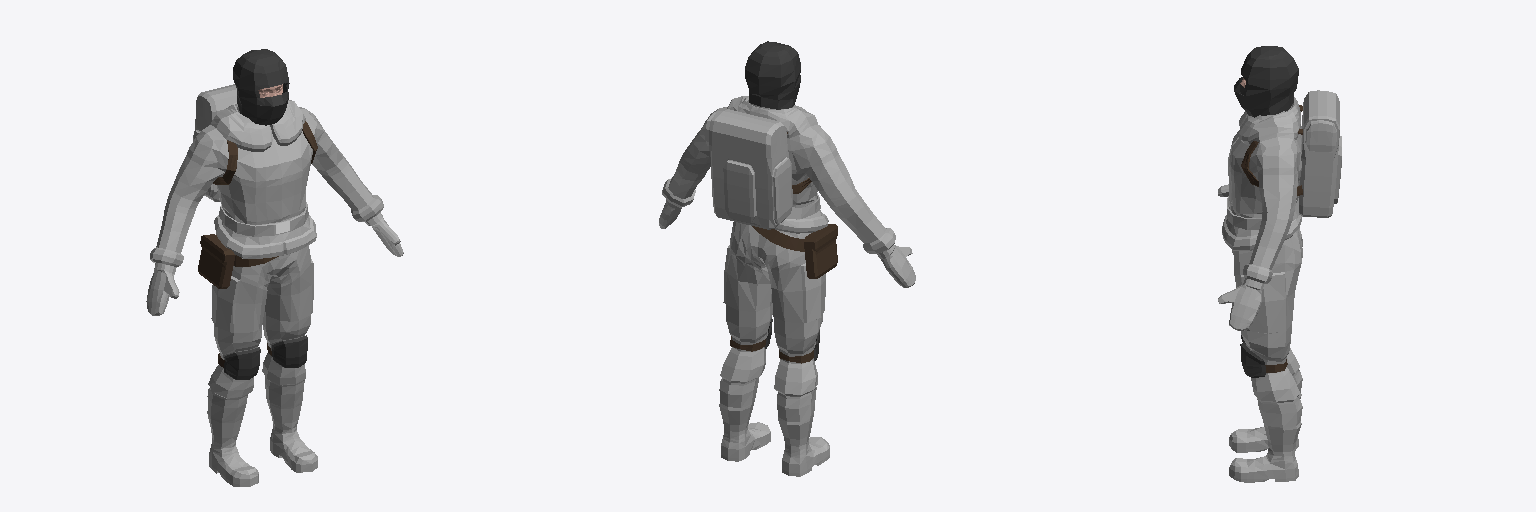
Rendered from Male_Raider.obj.
3 views of the same model, side by side, from view 1: azimuth 30°, elevation 25°; view 2: azimuth 150°, elevation 25°; view 3: azimuth 270°, elevation 25° (orthographic).
Parts seen in each view (by area): view 1: 6.02.2007.0613; view 2: 6.02.2007.0613; view 3: 6.02.2007.0613.
Boxes of the visible parts, x1=… form: 6.02.2007.0613: x1=146, y1=49, x2=403, y2=486; 6.02.2007.0613: x1=659, y1=41, x2=915, y2=476; 6.02.2007.0613: x1=1218, y1=46, x2=1341, y2=482.
Size of the model in its own units: 11.19 by 17.48 by 4.81.